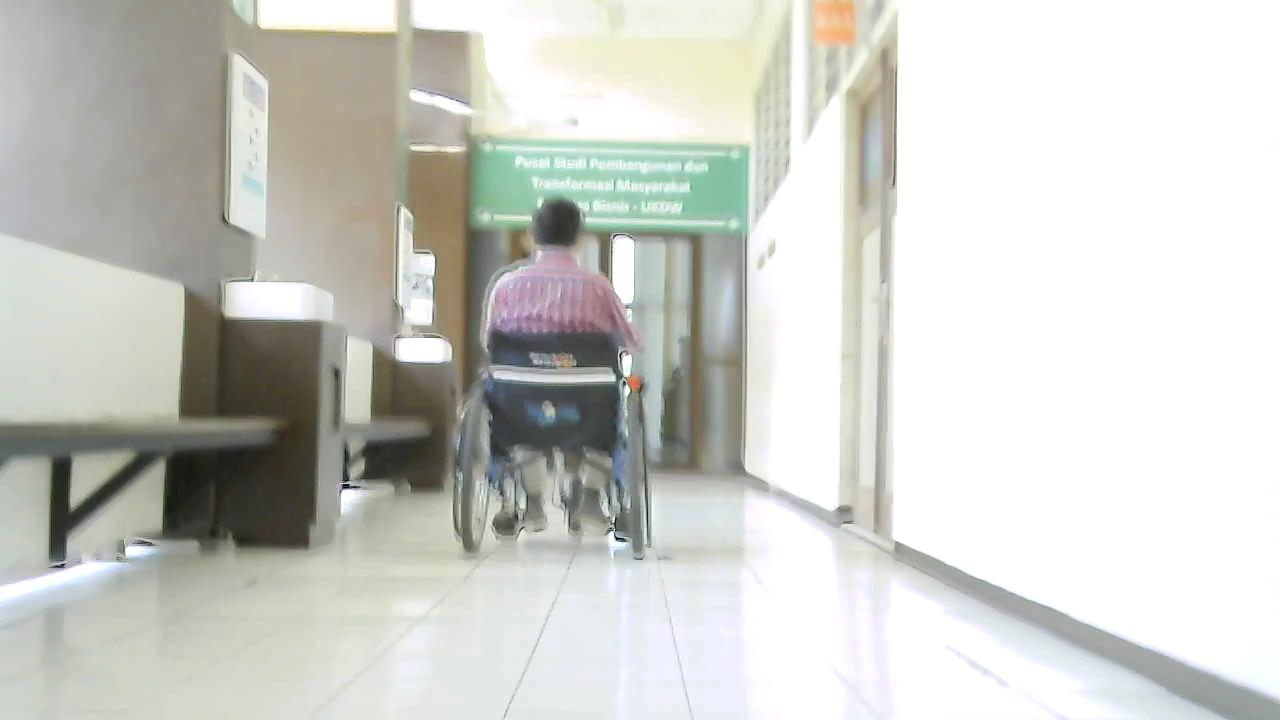person: (480, 197, 649, 538)
wheelchair: (429, 317, 673, 576)
